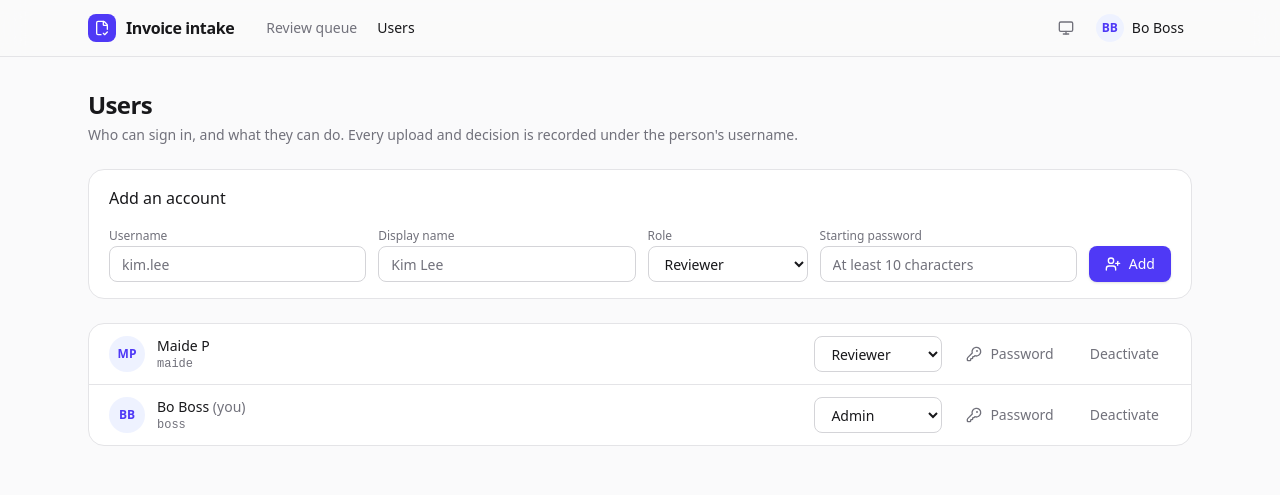
the Users screen › shows why an account could not be added
Expected: the element named "Accounts" is shown, x1=88 y1=323 x2=1192 y2=446
Type "maide" into the field labelled "Username" at (238, 264), box x1=109 y1=246 x2=366 y2=282
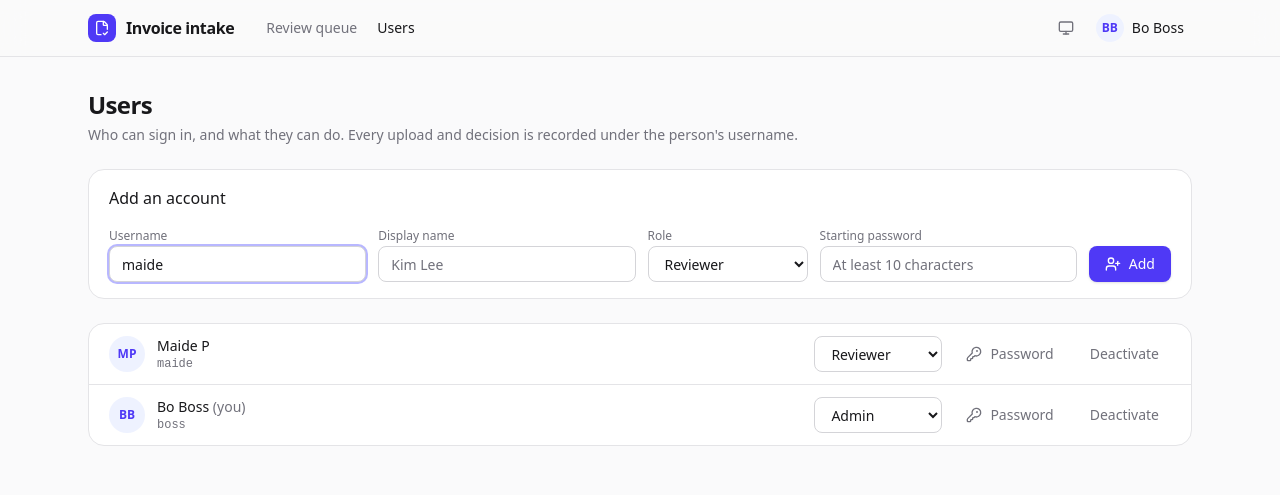
Type "Twin" into the field labelled "Display name" at (507, 264), box x1=378 y1=246 x2=636 y2=282
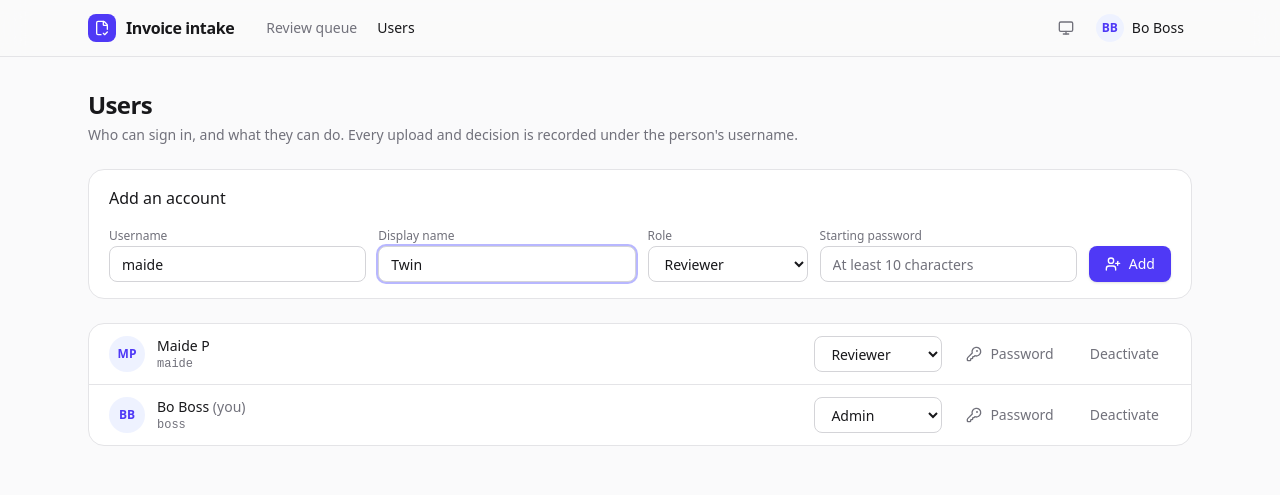
Type "a starting password" into the password field labelled "Starting password" at (948, 264), box x1=820 y1=246 x2=1077 y2=282
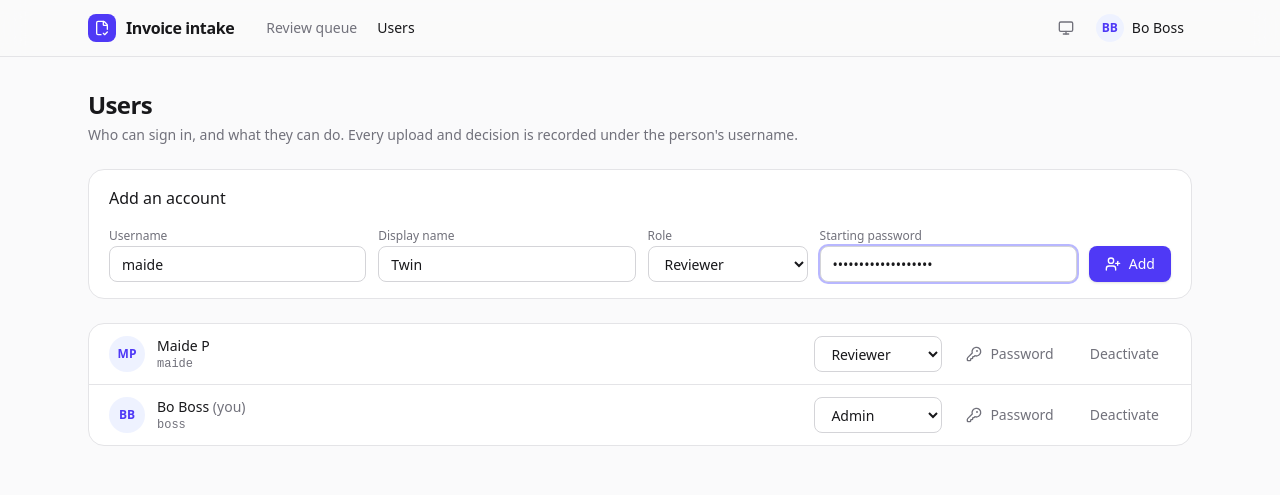
Click the button "Add" at (1130, 264), box x1=1089 y1=246 x2=1171 y2=282
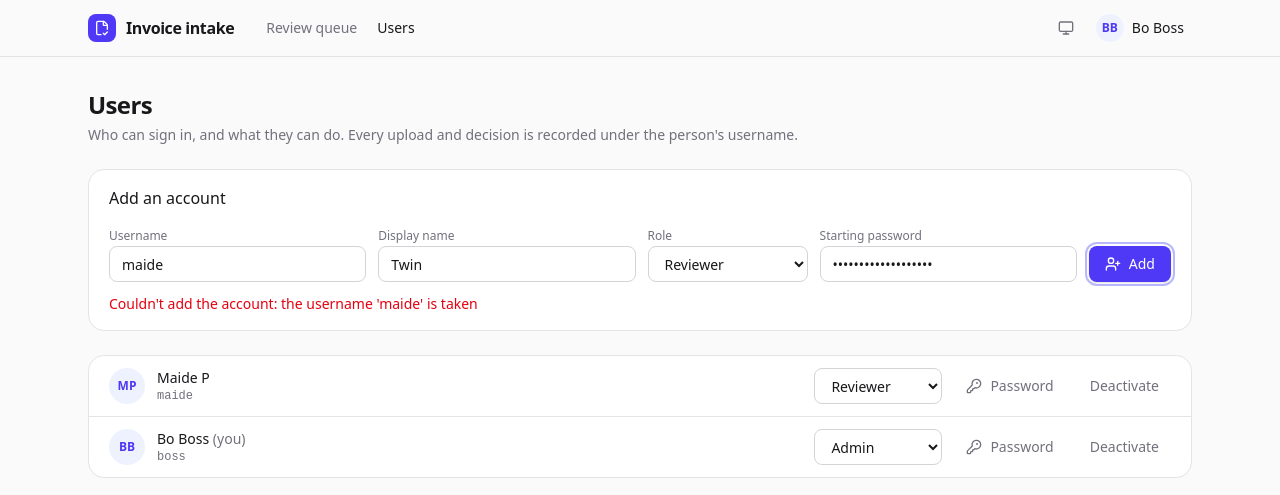
Expected: the message shows "the username 'maide' is taken", x1=281 y1=294 x2=478 y2=313
